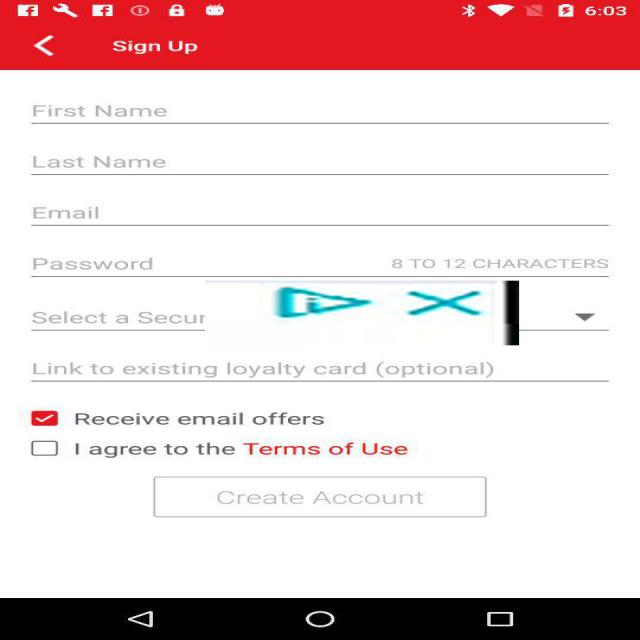sneaking: (205, 281, 519, 345)
